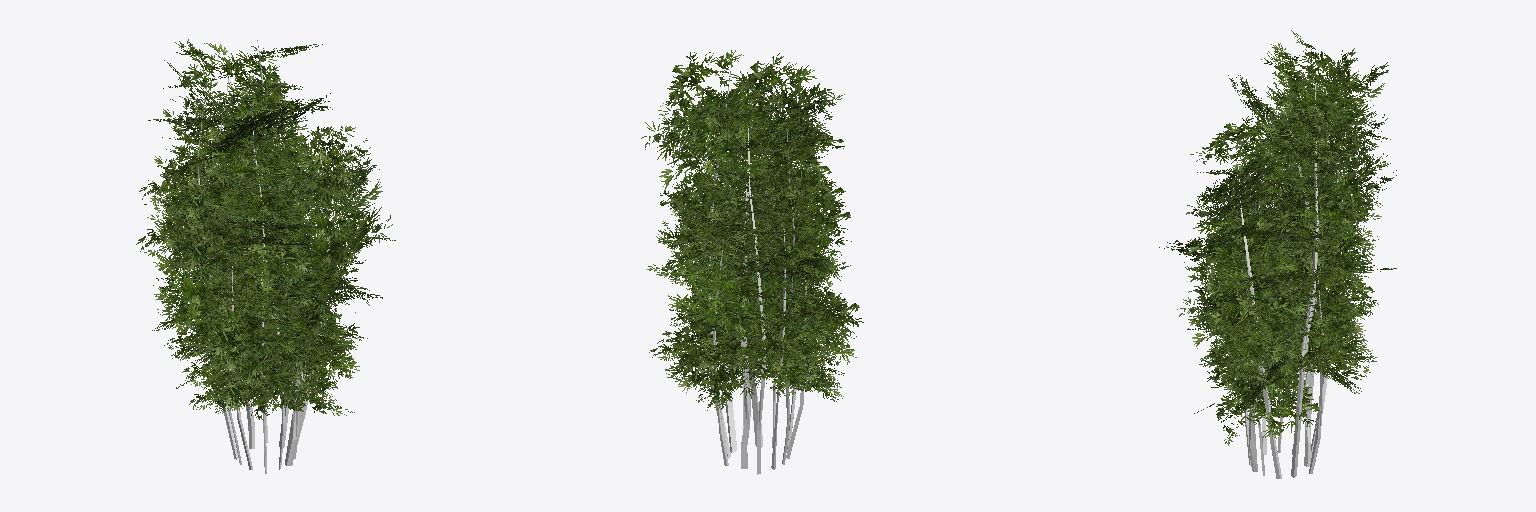
3 views of the same model, side by side, from view 1: azimuth 30°, elevation 25°; view 2: azimuth 150°, elevation 25°; view 3: azimuth 270°, elevation 25° (orthographic).
Parts seen in each view (by area): view 1: Foliage__leafcard, Bark; view 2: Foliage__leafcard, Bark; view 3: Foliage__leafcard, Bark.
Boxes of the visible parts, <box> form: Foliage__leafcard: <box>136,39,395,420</box>; Bark: <box>197,40,329,473</box>; Foliage__leafcard: <box>641,50,863,410</box>; Bark: <box>707,62,806,474</box>; Foliage__leafcard: <box>1159,30,1396,445</box>; Bark: <box>1238,73,1338,478</box>.
Bounding box in the file's own units: 2.23 × 4 × 2.24.
Materials: 2 (1 with a texture image).